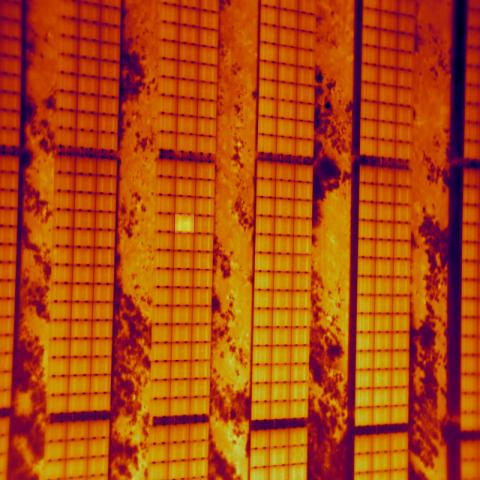fault: (175, 214, 194, 233)
